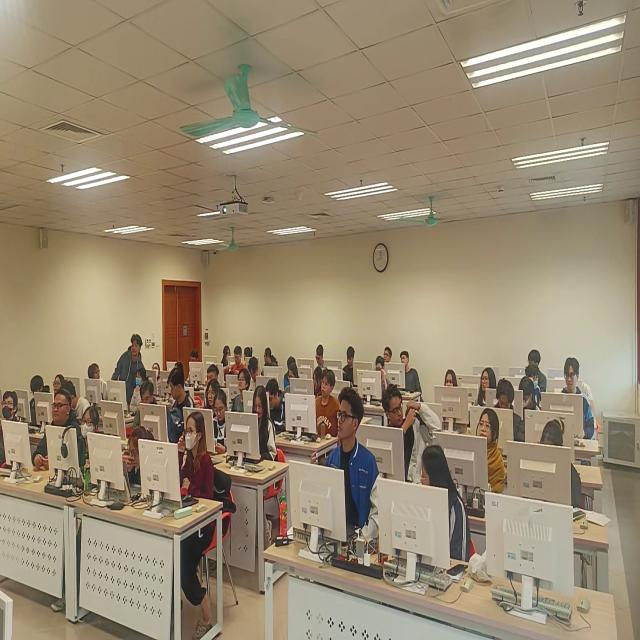raise_head: (325, 392, 371, 528), (178, 422, 211, 550), (464, 410, 506, 492), (40, 393, 81, 469), (556, 358, 593, 439), (74, 407, 104, 481), (311, 373, 341, 436), (1, 393, 25, 464), (392, 350, 423, 397), (438, 368, 465, 411), (476, 368, 498, 410), (231, 372, 251, 408), (204, 382, 221, 409), (382, 346, 395, 367), (52, 374, 65, 394), (151, 362, 162, 381)
stand: (112, 335, 145, 410)
using_computer: (525, 422, 581, 510), (243, 386, 276, 478), (120, 434, 160, 500), (494, 383, 523, 440), (131, 383, 161, 437), (366, 357, 396, 405), (22, 378, 51, 420), (268, 382, 288, 431), (519, 382, 541, 424), (340, 346, 360, 387), (286, 363, 302, 400), (230, 347, 249, 375), (308, 347, 330, 371), (249, 360, 262, 389)
using_phone: (210, 393, 234, 456)
